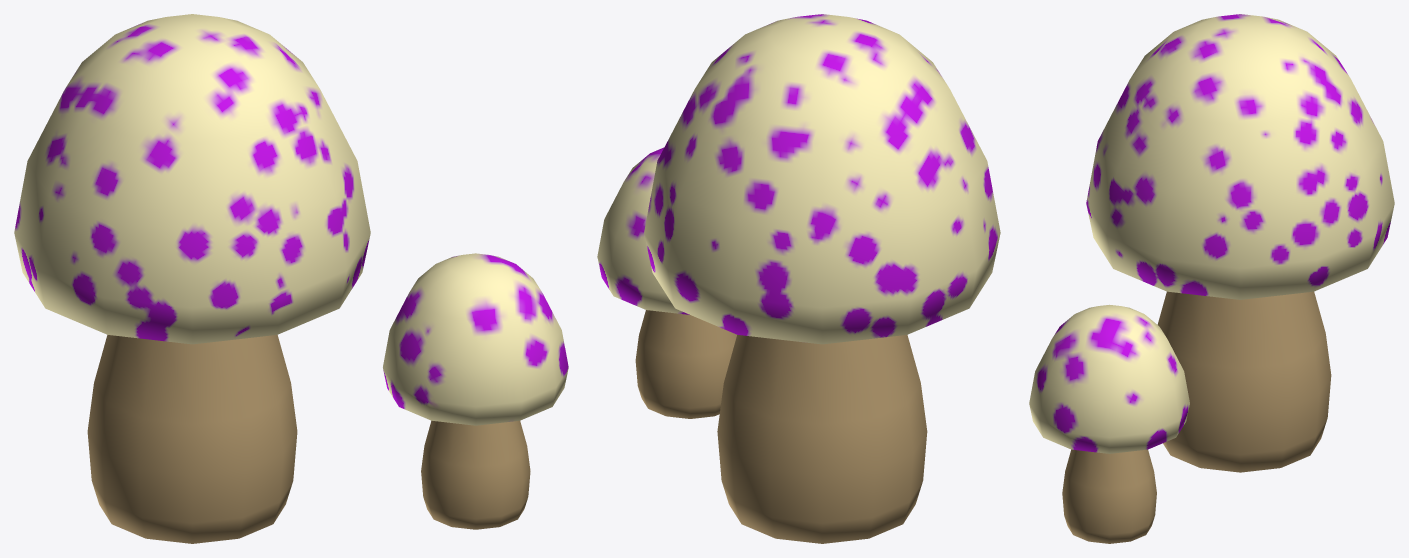
File: f5b071fd-89b5-4d67-8cb7-eaf983a9ade8.glb
3 views of the same model, side by side, from view 1: azimuth 30°, elevation 25°; view 2: azimuth 150°, elevation 25°; view 3: azimuth 270°, elevation 25° (orthographic). The views are drawn at different scales.
Parts seen in each view (by area): view 1: GiantSpottedShrooms01, GiantSpottedShrooms02; view 2: GiantSpottedShrooms01, GiantSpottedShrooms02; view 3: GiantSpottedShrooms01, GiantSpottedShrooms02.
Part boxes in pixels (bbox=[...]): GiantSpottedShrooms01: bbox=[14, 14, 370, 543]; GiantSpottedShrooms02: bbox=[383, 253, 568, 529]; GiantSpottedShrooms01: bbox=[644, 14, 1000, 543]; GiantSpottedShrooms02: bbox=[597, 147, 736, 418]; GiantSpottedShrooms01: bbox=[1086, 14, 1394, 472]; GiantSpottedShrooms02: bbox=[1029, 304, 1189, 543].
Size of what is drawn, in the model's own units: 3.87 by 3.98 by 3.2.
2 materials, 2 textured.
